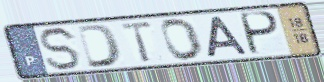A: (206, 14, 251, 59)
D: (75, 23, 123, 70)
O: (159, 17, 205, 62)
P: (239, 10, 282, 57)
S: (38, 25, 83, 72)
T: (119, 20, 155, 65)
